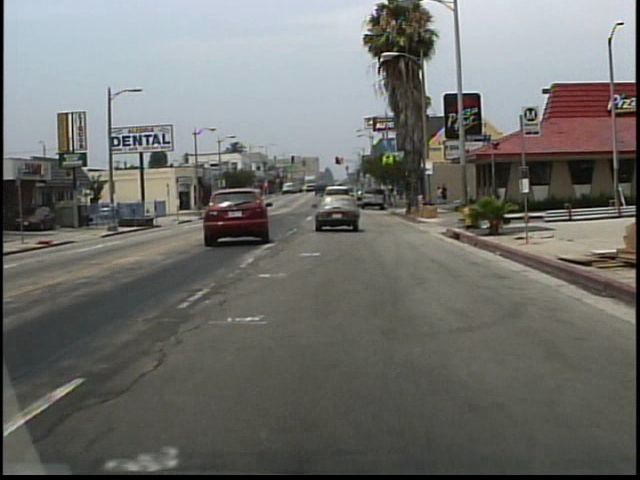person: (435, 184, 443, 206), (441, 183, 449, 205)
